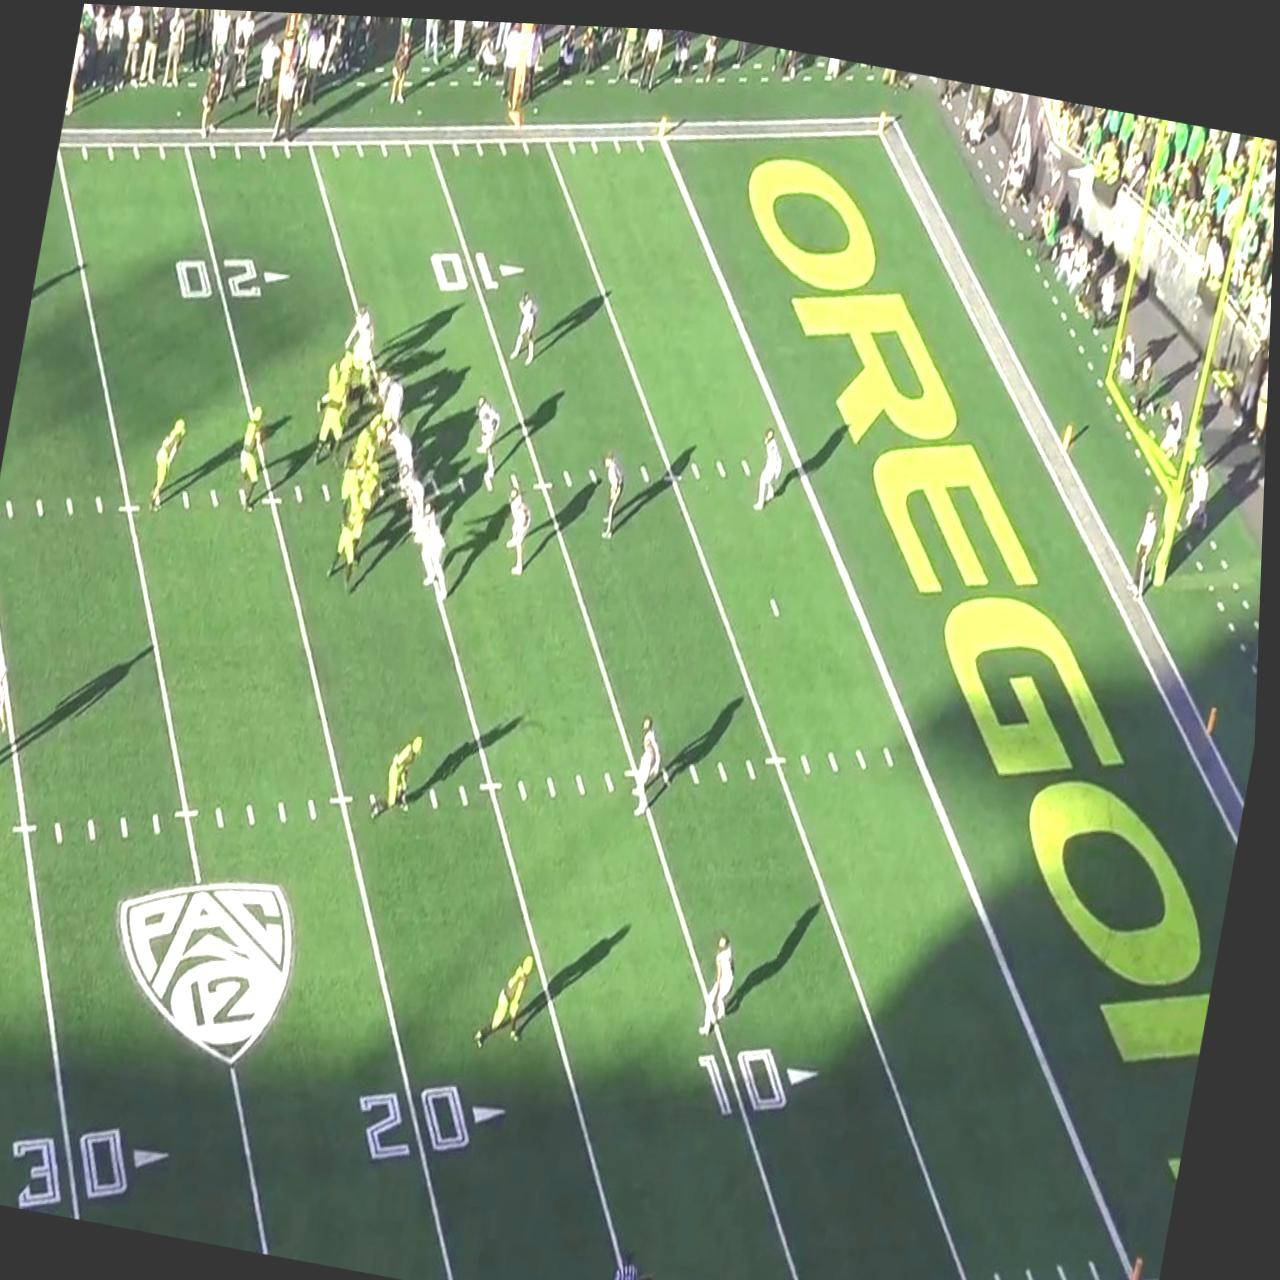10R: (693, 1030, 830, 1125), (422, 236, 529, 302)
20R: (358, 1060, 518, 1179), (170, 239, 295, 318)
30R: (11, 1109, 182, 1232)
